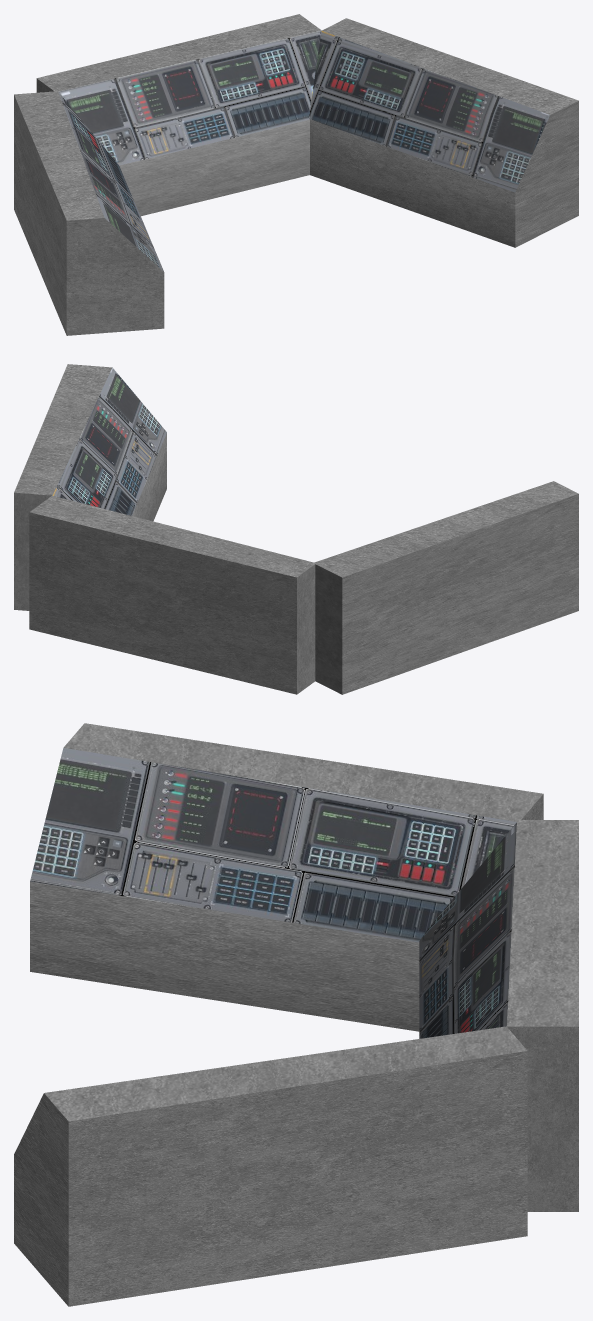
The model's file is moduloPrincipal.obj.
3 views of the same model, one above another, from view 1: azimuth 30°, elevation 25°; view 2: azimuth 150°, elevation 25°; view 3: azimuth 270°, elevation 25° (orthographic). The views are drawn at different scales.
Visible parts, largest first — view 1: tablerocontrol:pCube7; view 2: tablerocontrol:pCube7; view 3: tablerocontrol:pCube7.
Boxes of the visible parts, <box> form: tablerocontrol:pCube7: <box>14,14,578,335</box>; tablerocontrol:pCube7: <box>14,364,578,694</box>; tablerocontrol:pCube7: <box>14,723,578,1306</box>.
Size of the model in its own units: 1.03 by 0.2224 by 0.6146.
Materials: 7 (6 with a texture image).
